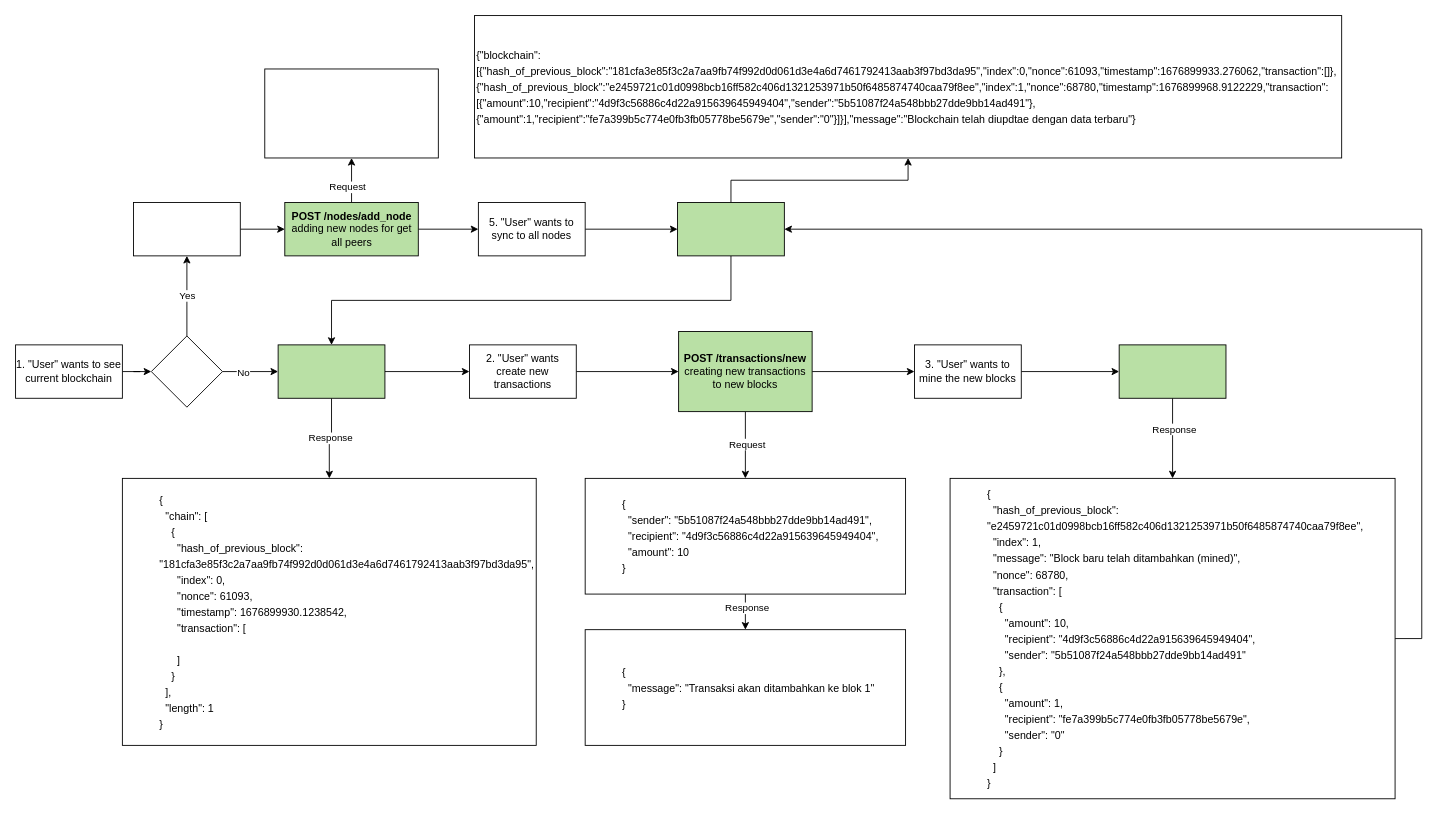
This 1444x814 diagram has some shape labels left out. Each missing label, with the centre of its shape:
4. "User" wants to add nodes: pixel 186 229
GET /blockchain show list of chain and length chain: pixel 331 371
GET /nodes/sync sync all nodes peers: pixel 730 229
Is Multi Node ?: pixel 186 371
POST /mine mining to new blocks: pixel 1172 371
{ "nodes": [ "http://127.0.0.1:3001" ] }: pixel 351 113
